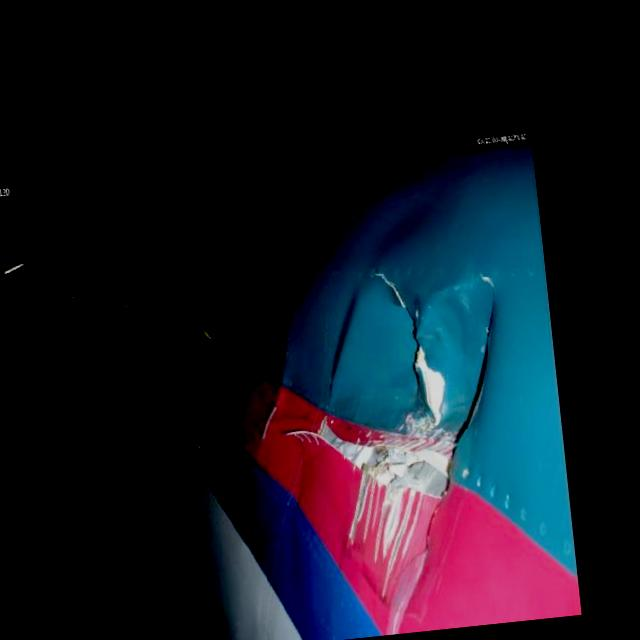crack: (296, 407, 448, 622), (370, 262, 456, 430), (455, 286, 493, 443), (407, 309, 425, 399)
dent: (257, 350, 458, 566), (318, 272, 378, 397), (424, 294, 479, 382)
